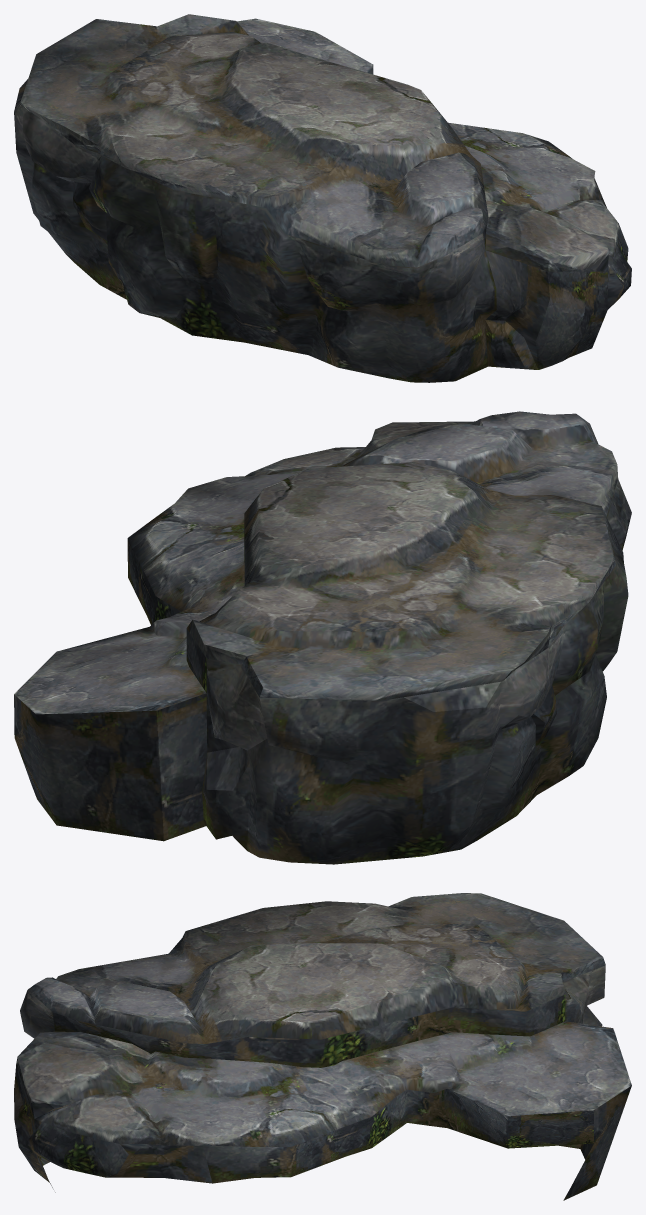
Rendered from dx_shitou_15.FBX.
3 renders of one model, top to bottom at view 1: azimuth 30°, elevation 25°; view 2: azimuth 150°, elevation 25°; view 3: azimuth 270°, elevation 25°, orthographic. The views are drawn at different scales.
Parts seen in each view (by area): view 1: dx_shitou_15; view 2: dx_shitou_15; view 3: dx_shitou_15.
Boxes of the visible parts, x1,y1,x2,y2 form: dx_shitou_15: (14, 14, 631, 382); dx_shitou_15: (14, 411, 631, 864); dx_shitou_15: (14, 893, 631, 1200).
Bounding box in the file's own units: 283 × 116 × 382.
